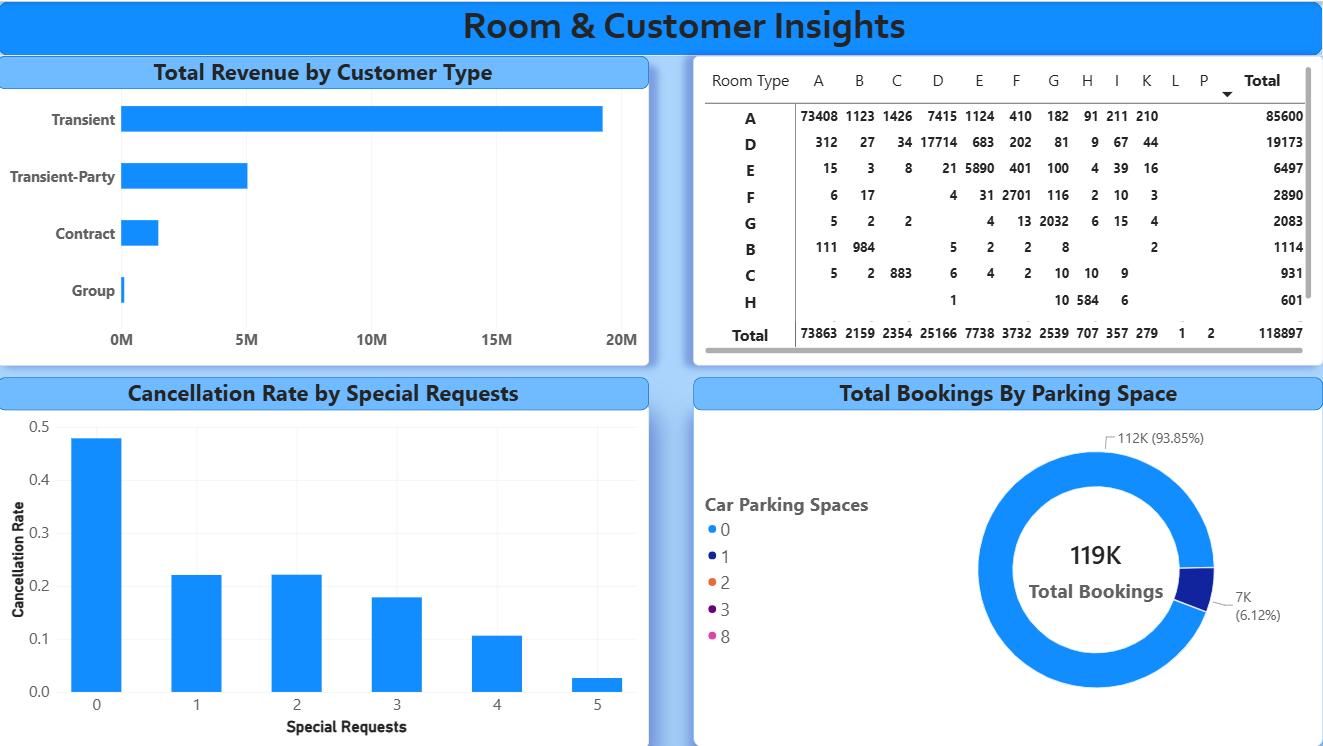

What the dashboard file says about the page in this screenshot:
{"tool":"powerbi","page":{"name":"Page 3","canvas":[1920,1080],"ordinal":2},"visuals":[{"type":"shape","box":[0,0,1920,80],"z":0},{"type":"textbox","box":[0,0,1920,80],"z":1000},{"type":"clusteredBarChart","title":"Total Revenue by Customer Type","fields":{"Category":["hotel_bookings_cleaned.customer_type"],"Y":["_Measures.Total Revenue"]},"box":[0,96,944,432],"z":2000},{"type":"shape","box":[0,80,944,48],"z":3000},{"type":"textbox","box":[0,80,944,48],"z":4000},{"type":"pivotTable","fields":{"Columns":["hotel_bookings_cleaned.assigned_room_type"],"Rows":["hotel_bookings_cleaned.reserved_room_type"],"Values":["_Measures.Total Bookings"]},"box":[1008,80,912,448],"z":5000},{"type":"clusteredColumnChart","fields":{"Category":["hotel_bookings_cleaned.total_of_special_requests"],"Y":["_Measures.Cancellation Rate"]},"box":[0,584,944,496],"z":6000},{"type":"shape","box":[0,544,944,48],"z":7000},{"type":"textbox","box":[0,544,944,48],"z":8000},{"type":"donutChart","fields":{"Category":["hotel_bookings_cleaned.required_car_parking_spaces"],"Y":["_Measures.Total Bookings"]},"box":[1008,568,912,512],"z":9000},{"type":"shape","box":[1008,544,912,48],"z":10000},{"type":"textbox","box":[1008,544,912,48],"z":11000}]}

Visuals, with their boxes in screenshot pixels (x1, y1, x2, y2), scaled from the page's 1920x1080 canvas onto the 1323x746 screenshot:
shape: <box>0,0,1322,55</box>
textbox: <box>0,0,1322,55</box>
"Total Revenue by Customer Type" clusteredBarChart: <box>0,66,650,365</box>
shape: <box>0,55,650,88</box>
textbox: <box>0,55,650,88</box>
pivotTable - hotel_bookings_cleaned.assigned_room_type x hotel_bookings_cleaned.reserved_room_type: <box>695,55,1322,365</box>
clusteredColumnChart - hotel_bookings_cleaned.total_of_special_requests x _Measures.Cancellation Rate: <box>0,403,650,745</box>
shape: <box>0,376,650,409</box>
textbox: <box>0,376,650,409</box>
donutChart - hotel_bookings_cleaned.required_car_parking_spaces x _Measures.Total Bookings: <box>695,392,1322,745</box>
shape: <box>695,376,1322,409</box>
textbox: <box>695,376,1322,409</box>
